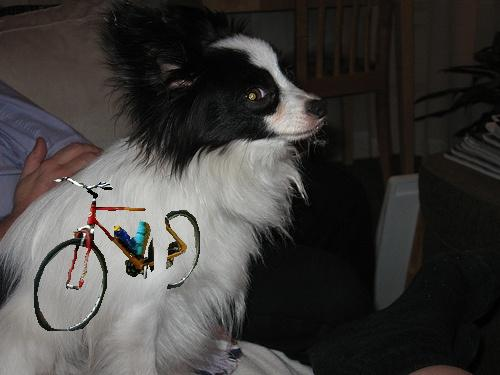tampered: (35, 178, 200, 331)
